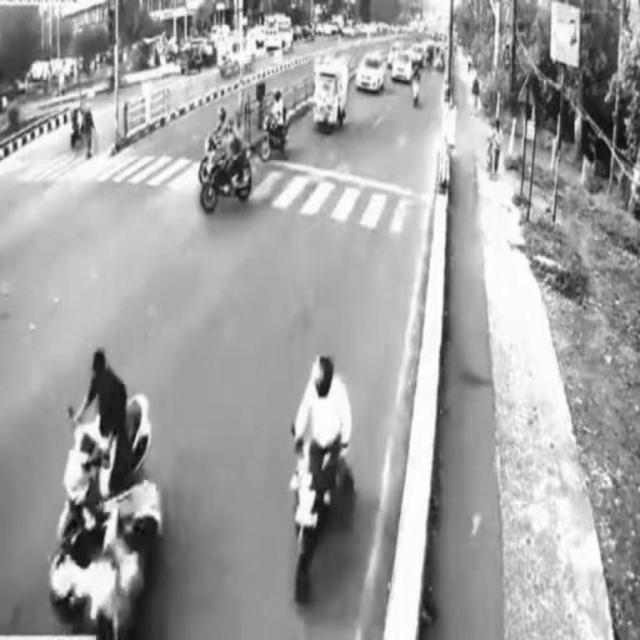accident: (51, 347, 172, 635)
vehicle: (289, 343, 357, 604), (196, 121, 253, 205), (311, 58, 349, 136), (258, 91, 292, 163), (355, 55, 387, 93)
